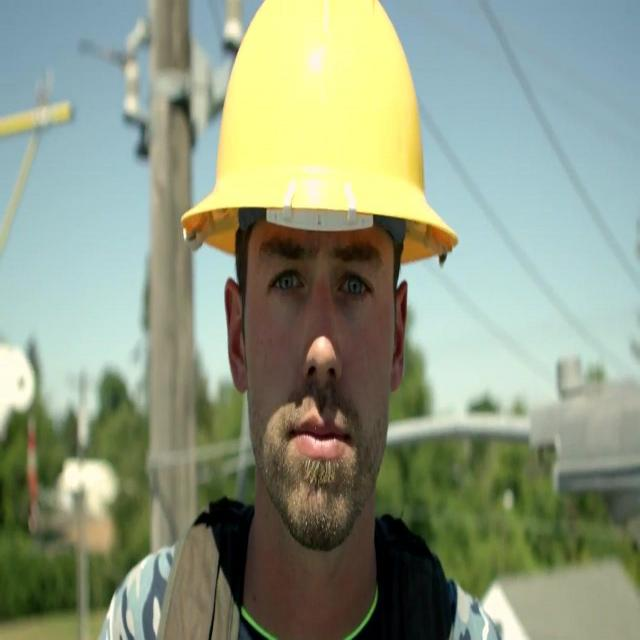Reflective-Jacket: (95, 496, 525, 640)
Safety-Helmet: (185, 12, 455, 272)
